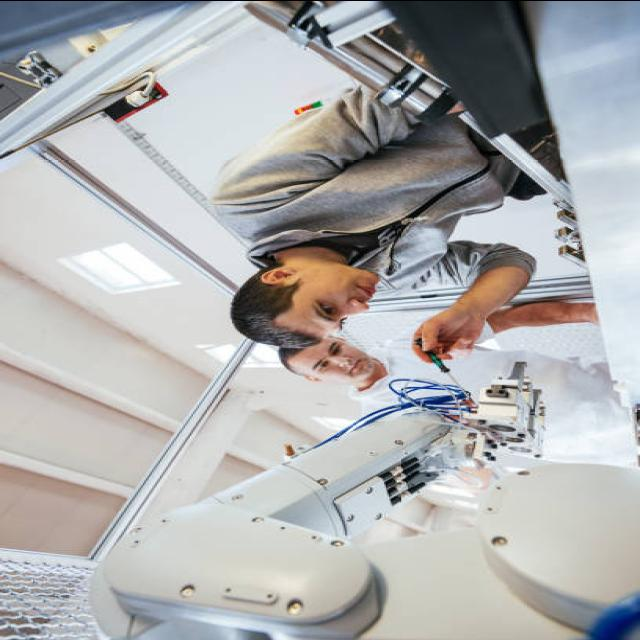Robotic-arm: (80, 395, 494, 640)
